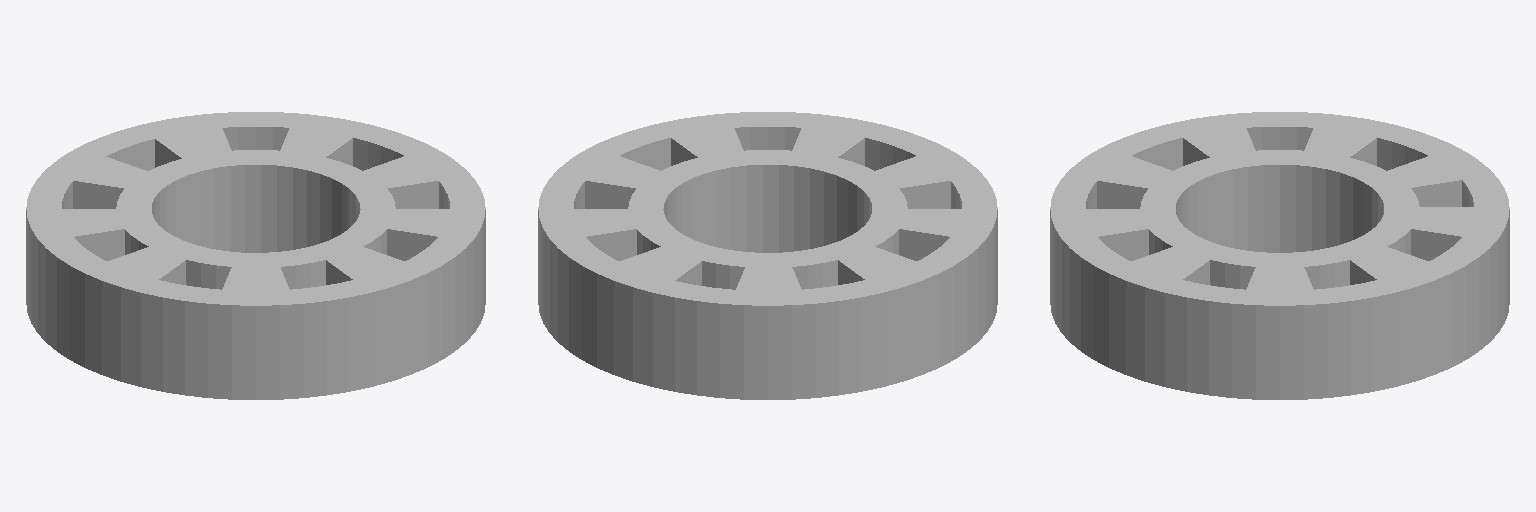
The model's file is N2-003_pc_gfx.obj.
3 views of the same model, side by side, from view 1: azimuth 30°, elevation 25°; view 2: azimuth 150°, elevation 25°; view 3: azimuth 270°, elevation 25° (orthographic).
Visible parts, largest first — view 1: N2-003; view 2: N2-003; view 3: N2-003.
Boxes of the visible parts, x1=… form: N2-003: x1=26, y1=112, x2=485, y2=399; N2-003: x1=538, y1=112, x2=997, y2=399; N2-003: x1=1050, y1=112, x2=1509, y2=399.
Size of the model in its own units: 0.324 by 0.0735 by 0.324.